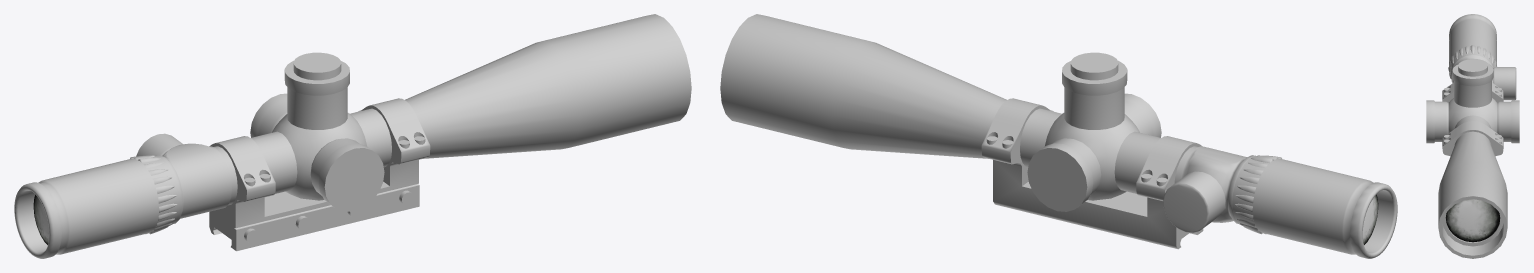
The model's file is SM_Scope_25x56.FBX.
3 renders of one model, left to right at view 1: azimuth 30°, elevation 25°; view 2: azimuth 150°, elevation 25°; view 3: azimuth 270°, elevation 25°, orthographic. The views are drawn at different scales.
Visible parts, largest first — view 1: SM_Scope_25x56_X; view 2: SM_Scope_25x56_X; view 3: SM_Scope_25x56_X.
Part boxes in pixels (x1=…): SM_Scope_25x56_X: x1=14, y1=14, x2=691, y2=258; SM_Scope_25x56_X: x1=720, y1=14, x2=1397, y2=258; SM_Scope_25x56_X: x1=1426, y1=14, x2=1519, y2=258.
Size of the model in its own units: 41.58 by 8.49 by 9.77.
